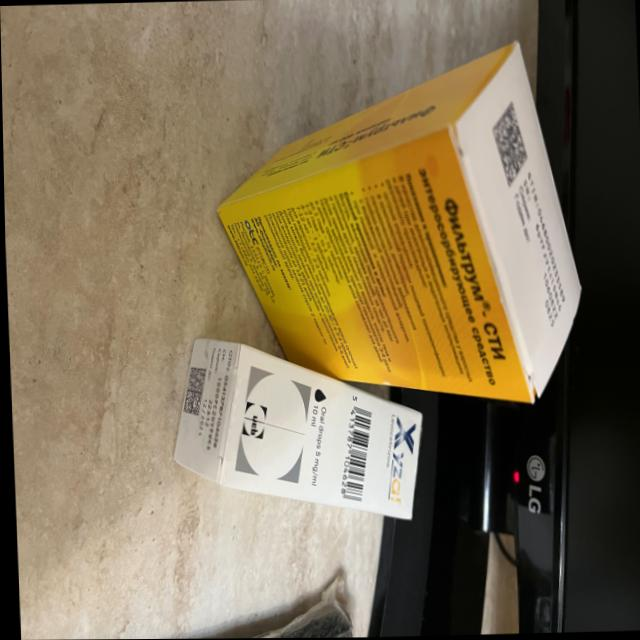datamatrix: (489, 102, 527, 190), (179, 367, 206, 418)
